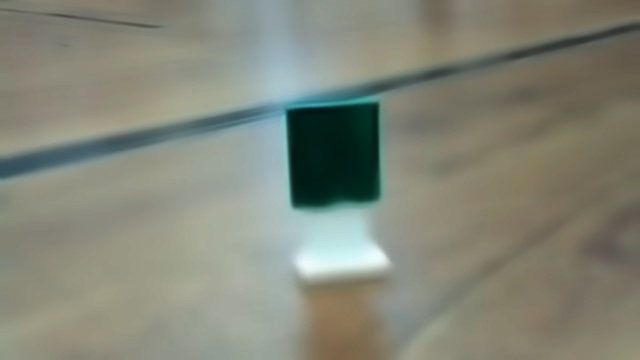rect: (258, 99, 422, 293)
